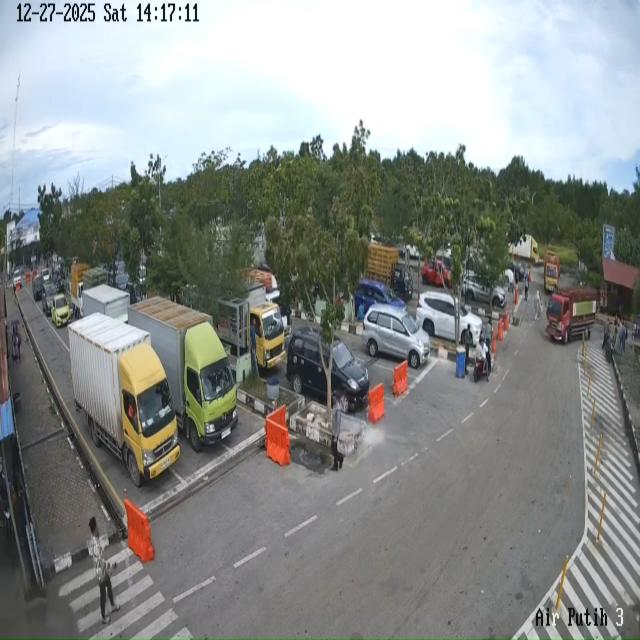Golongan IVA: (286, 327, 370, 411), (362, 305, 430, 369), (416, 291, 483, 345), (354, 278, 406, 314), (463, 272, 506, 308), (51, 294, 71, 328), (42, 281, 58, 315), (32, 273, 44, 302)
Golongan VB: (68, 314, 180, 486), (128, 297, 238, 452), (546, 286, 598, 344), (508, 234, 540, 264), (544, 251, 560, 293)
